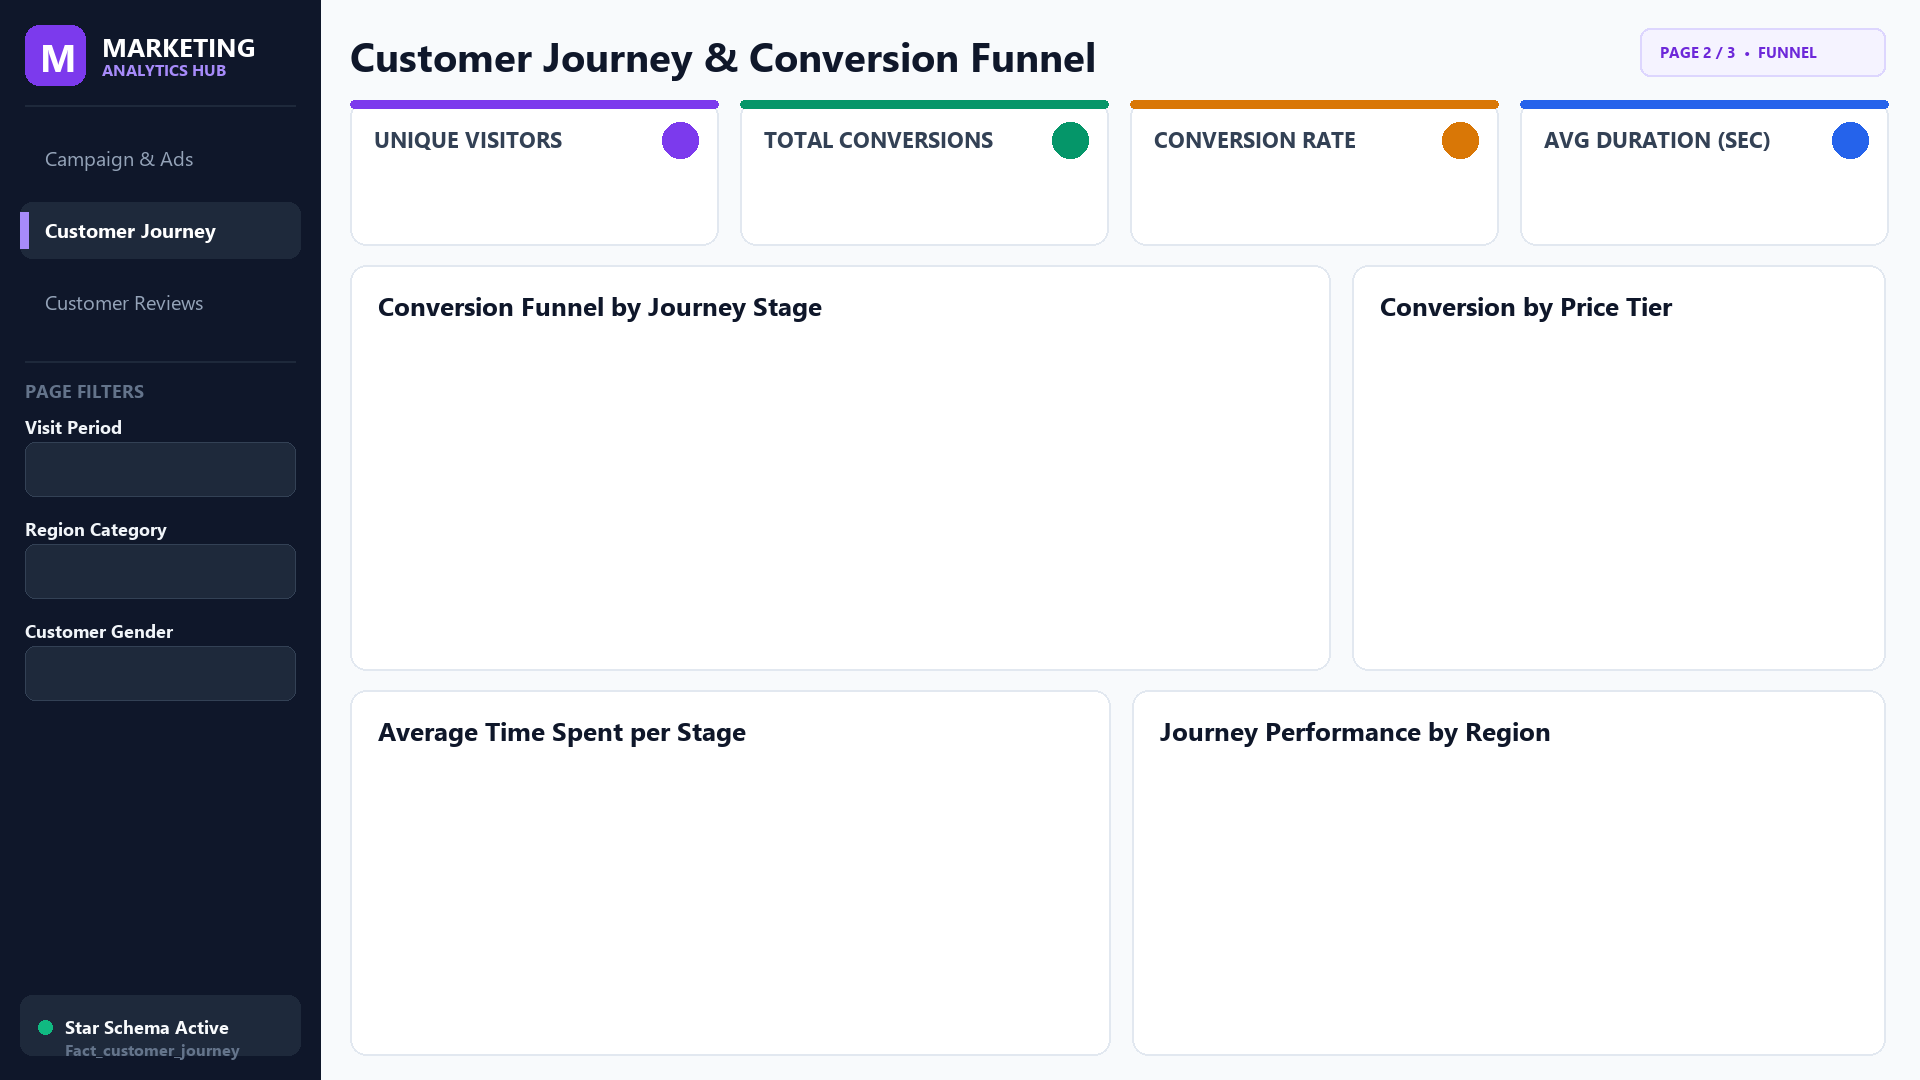

The dashboard page shown, as its layout file describes it:
{"tool":"powerbi","page":{"name":"Customer Journey & Conversion Funnel","canvas":[1920,1080],"ordinal":1},"visuals":[{"type":"cardVisual","fields":{"Data":["Key Measure.Unique Visitors"]},"box":[370.9,146.4,282.5,107.5],"z":0},{"type":"cardVisual","fields":{"Data":["Key Measure.Total Conversions"]},"box":[763.7,146.4,282.5,107.5],"z":1000},{"type":"cardVisual","fields":{"Data":["Key Measure.Conversion Rate"]},"box":[1151.6,146.4,282.5,107.5],"z":2000},{"type":"cardVisual","fields":{"Data":["Key Measure.Avg Duration"]},"box":[1542,146.4,282.5,107.5],"z":3000},{"type":"slicer","fields":{"Values":["Dim_customers.CountryCategory"]},"box":[27.5,525,267.5,55],"z":4000},{"type":"slicer","fields":{"Values":["Dim_customers.Gender"]},"box":[30,627.5,267.5,55],"z":5000},{"type":"funnel","fields":{"Category":["Fact_customer_journey.Stage"],"Y":["Key Measure.Unique Visitors"]},"box":[370,317.5,955,337.5],"z":6000},{"type":"clusteredColumnChart","fields":{"Category":["Dim_products.PriceCategory"],"Y":["Key Measure.Conversion Rate"]},"box":[1357.5,317.5,522.5,337.5],"z":7000},{"type":"clusteredBarChart","fields":{"Category":["Fact_customer_journey.Stage"],"Y":["Key Measure.Avg Duration"]},"box":[352.5,740,745,340],"z":8000},{"type":"slicer","fields":{"Values":["dCalendar.Date.Variation.Date Hierarchy.Year","dCalendar.Month Name"]},"box":[26.8,427,268.4,58.6],"z":8001},{"type":"lineStackedColumnComboChart","fields":{"Category":["Dim_customers.CountryCategory"],"Y":["Key Measure.Unique Visitors"],"Y2":["Key Measure.Total Conversions"]},"box":[1151.6,739.3,727.1,297.7],"z":8002},{"type":"actionButton","box":[26.8,261.1,268.4,53.7],"z":8003},{"type":"actionButton","box":[29.3,119.6,268.4,51.2],"z":8004}]}

Visuals, with their boxes on the page's 1920x1080 design canvas (x1, y1, x2, y2). These are canvas units, not pixel positions in the 1920x1080 screenshot, which may show the page scaled, cropped or inside an application window:
cardVisual - Key Measure.Unique Visitors: bbox(371, 146, 653, 254)
cardVisual - Key Measure.Total Conversions: bbox(764, 146, 1046, 254)
cardVisual - Key Measure.Conversion Rate: bbox(1152, 146, 1434, 254)
cardVisual - Key Measure.Avg Duration: bbox(1542, 146, 1824, 254)
slicer - Dim_customers.CountryCategory: bbox(28, 525, 295, 580)
slicer - Dim_customers.Gender: bbox(30, 628, 298, 682)
funnel - Fact_customer_journey.Stage x Key Measure.Unique Visitors: bbox(370, 318, 1325, 655)
clusteredColumnChart - Dim_products.PriceCategory x Key Measure.Conversion Rate: bbox(1358, 318, 1880, 655)
clusteredBarChart - Fact_customer_journey.Stage x Key Measure.Avg Duration: bbox(352, 740, 1098, 1080)
slicer - dCalendar.Date.Variation.Date Hierarchy.Year x dCalendar.Month Name: bbox(27, 427, 295, 486)
lineStackedColumnComboChart - Dim_customers.CountryCategory x Key Measure.Unique Visitors: bbox(1152, 739, 1879, 1037)
actionButton: bbox(27, 261, 295, 315)
actionButton: bbox(29, 120, 298, 171)
